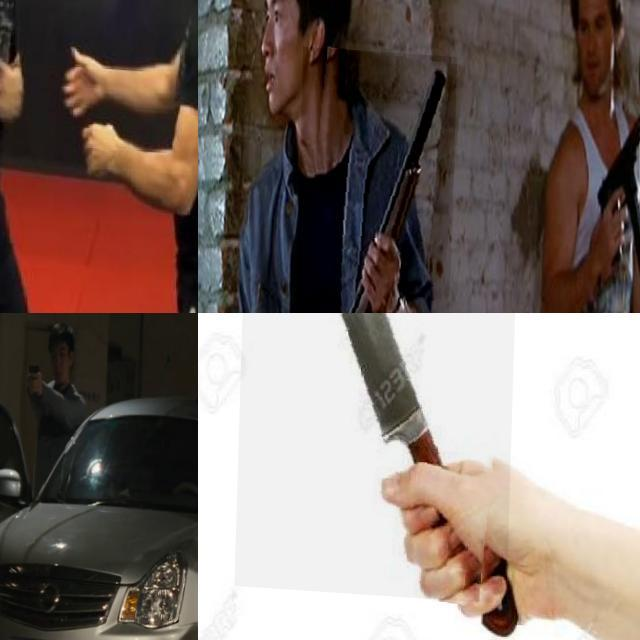-: (238, 313, 522, 599), (0, 232, 43, 284)
gun-knife-thesis - v11 Yolov5 augmented: (293, 44, 458, 313), (587, 97, 640, 288), (27, 358, 42, 394)
